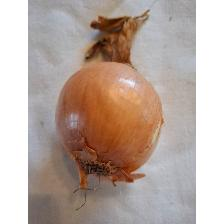Zwiebel: (53, 9, 165, 192)
